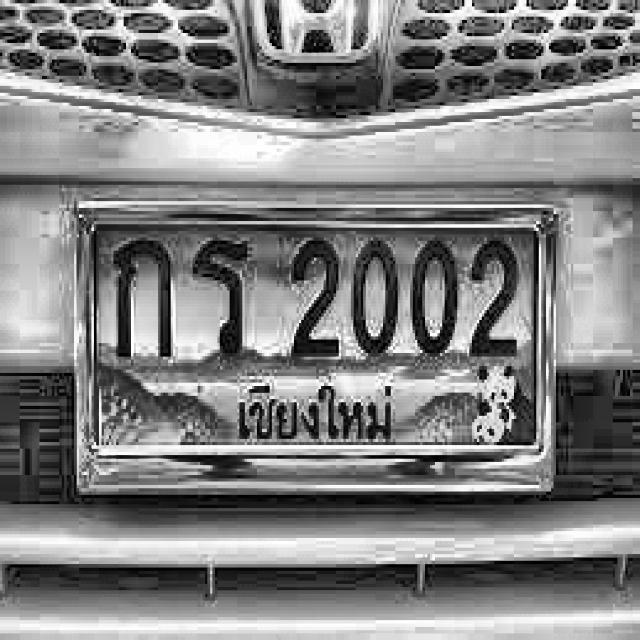license-plate: (74, 197, 560, 493)
